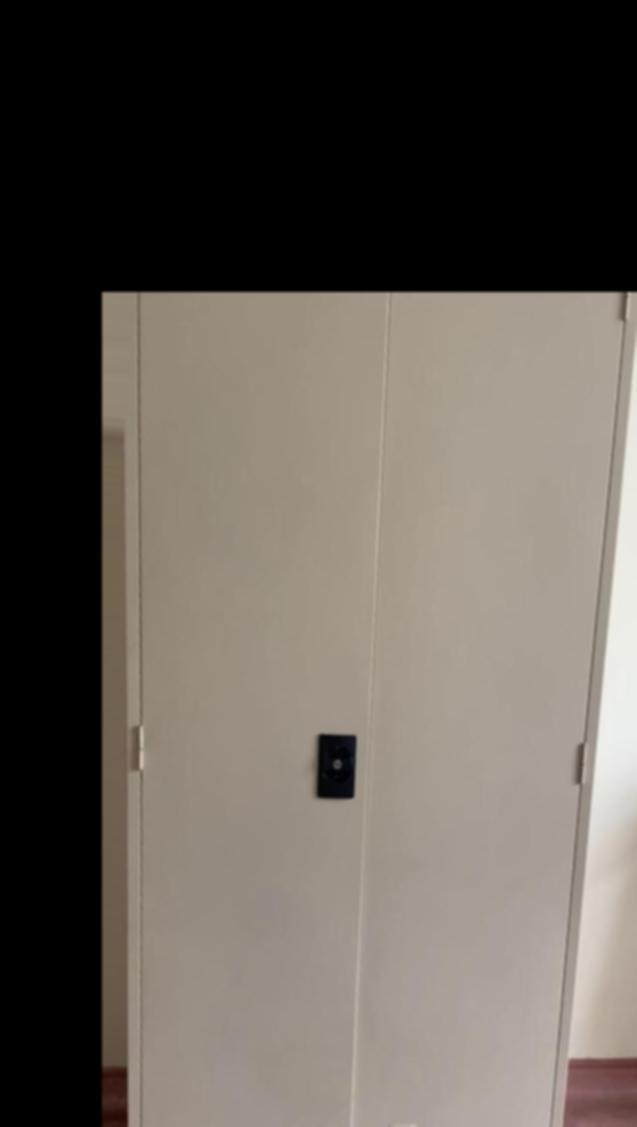Armario: (102, 302, 637, 1127)
